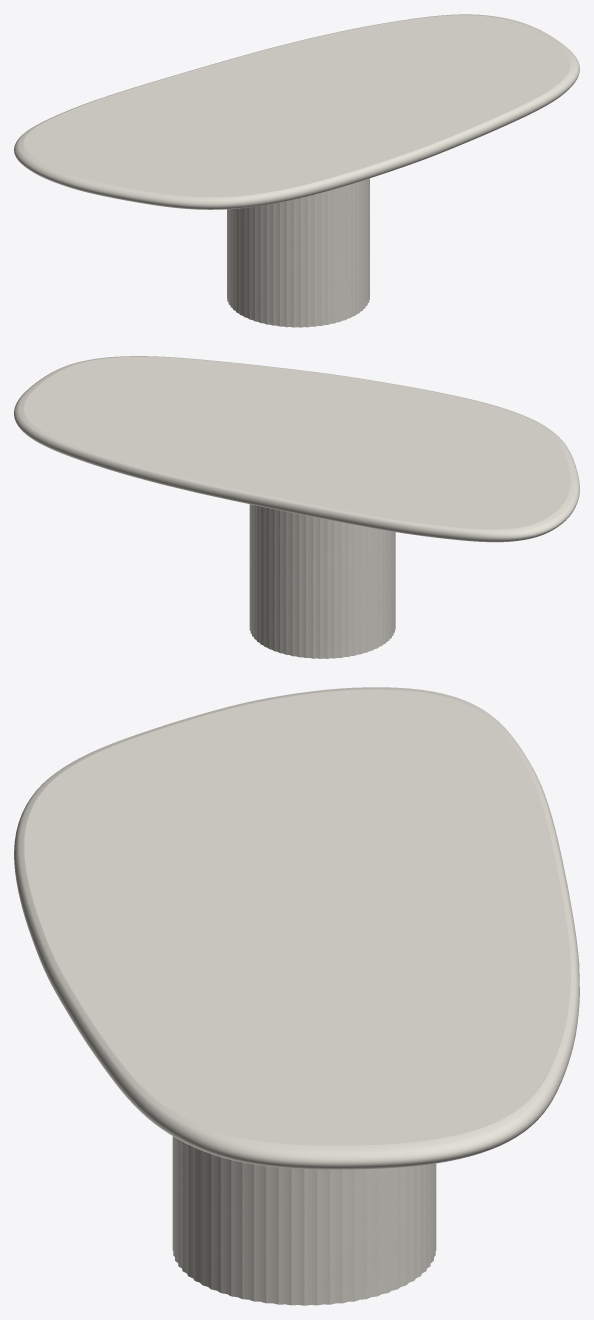
Rendered from pale_leaf2_round_ripple.glb.
The picture shows the model from 3 angles, top to bottom: view 1: azimuth 30°, elevation 25°; view 2: azimuth 150°, elevation 25°; view 3: azimuth 270°, elevation 25°; orthographic projection. The views are drawn at different scales.
Visible parts, largest first — view 1: round_leaf2, ripple; view 2: round_leaf2, ripple; view 3: round_leaf2, ripple.
Boxes of the visible parts, bbox=[...] form: round_leaf2: bbox=[14, 14, 579, 209]; ripple: bbox=[227, 178, 369, 327]; round_leaf2: bbox=[14, 356, 579, 542]; ripple: bbox=[249, 504, 395, 658]; round_leaf2: bbox=[14, 687, 579, 1169]; ripple: bbox=[172, 1136, 436, 1305].
Bounding box in the file's own units: 7.5 × 2.52 × 3.8.
Materials: 1 (1 with a texture image).
